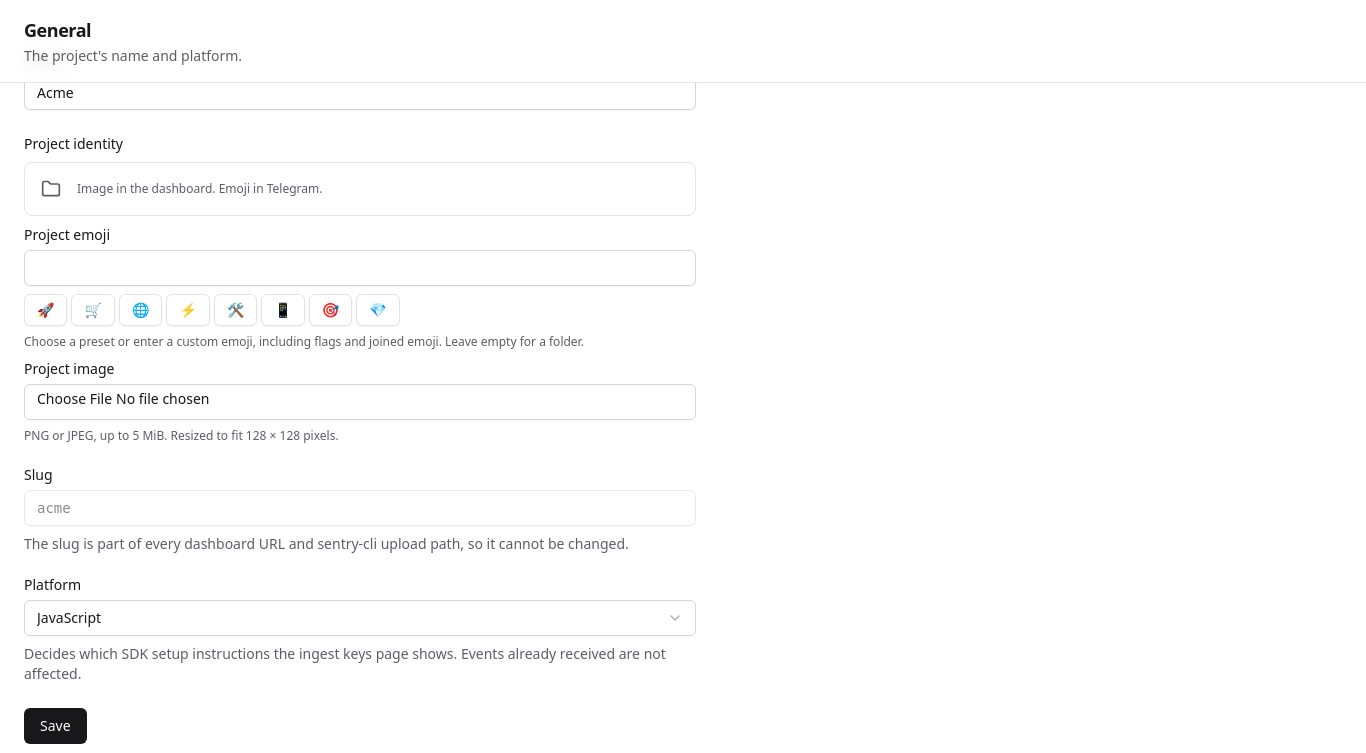
Test: ProjectGeneralPage › shows the server's error and does not claim the save
(page scrolled)
Click the button "Save" at (55, 726), box top-left (24, 708), bottom-right (87, 744)
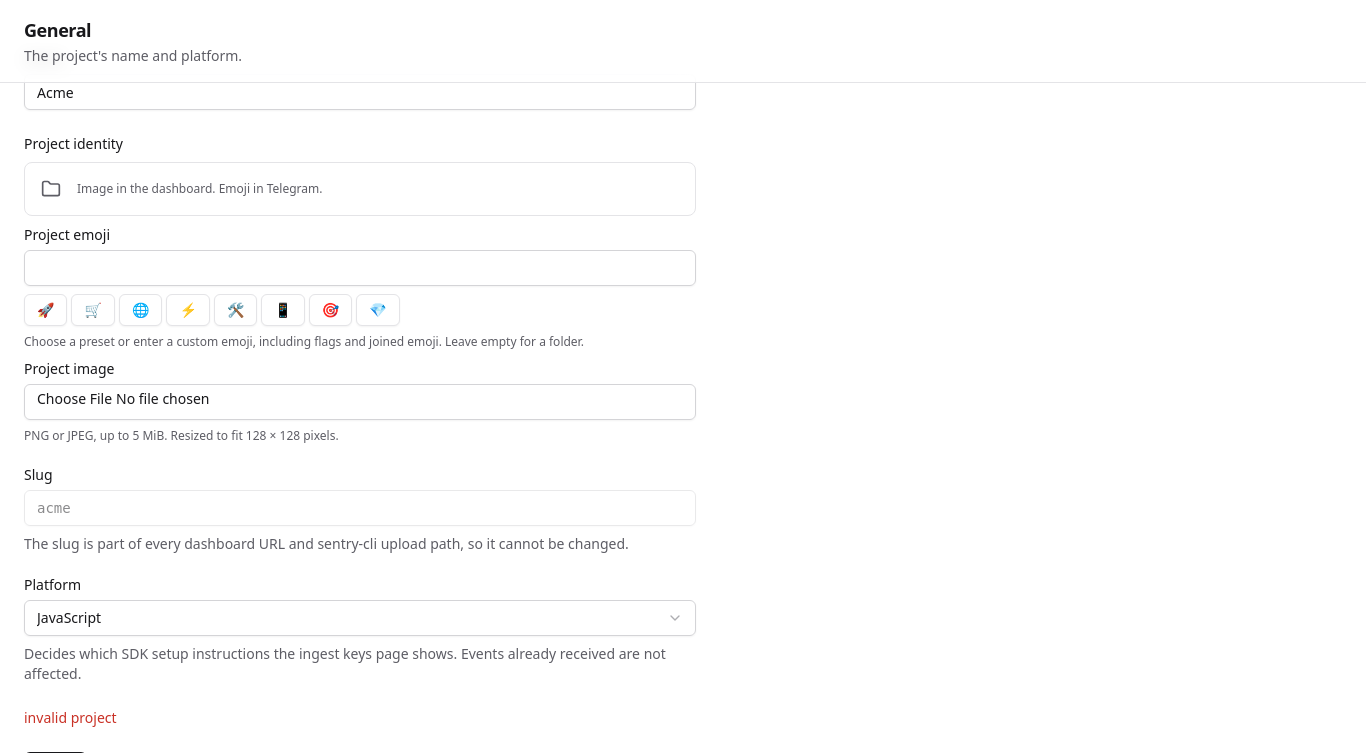
Now the message reads "invalid project", box top-left (24, 708), bottom-right (117, 727)
